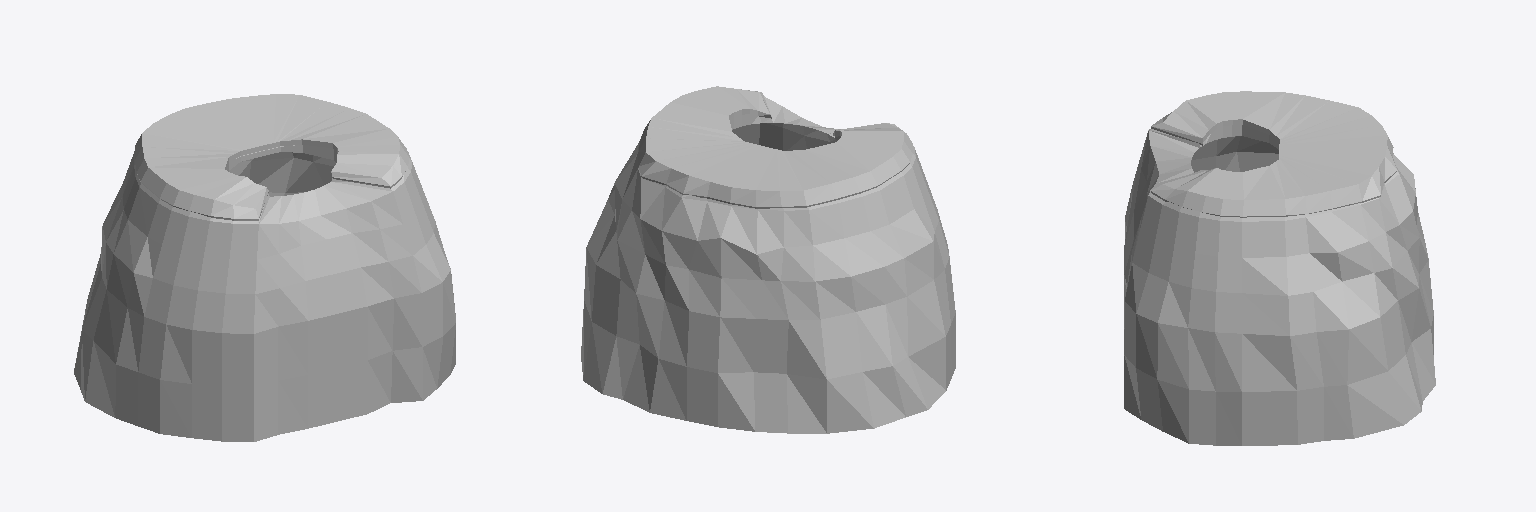
The model's file is Hill.obj.
3 renders of one model, left to right at view 1: azimuth 30°, elevation 25°; view 2: azimuth 150°, elevation 25°; view 3: azimuth 270°, elevation 25°, orthographic.
Parts seen in each view (by area): view 1: Sphere.002; view 2: Sphere.002; view 3: Sphere.002.
Part boxes in pixels (x1,y1,x2,y2): Sphere.002: (74,94,455,441); Sphere.002: (581,86,955,433); Sphere.002: (1124,91,1435,445).
Size of the model in its own units: 10.15 by 6.58 by 8.29.